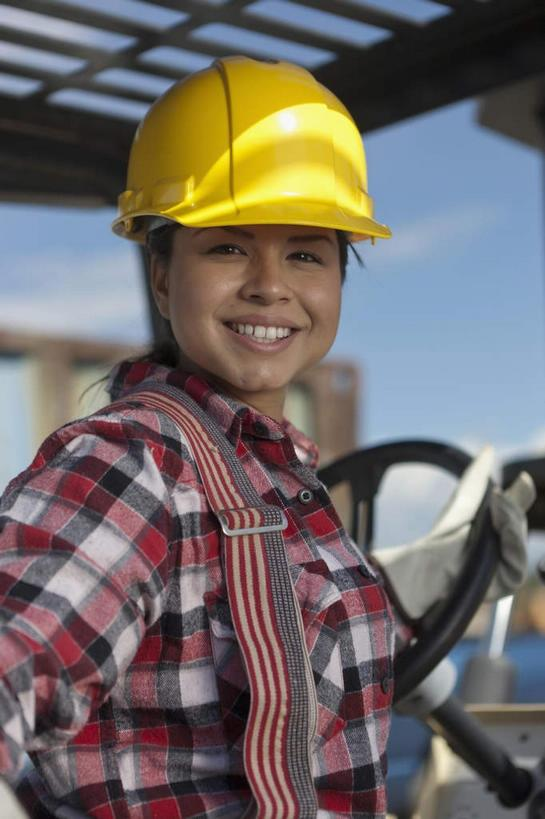helmet: (106, 49, 405, 248)
no_wear: (23, 405, 397, 819)
